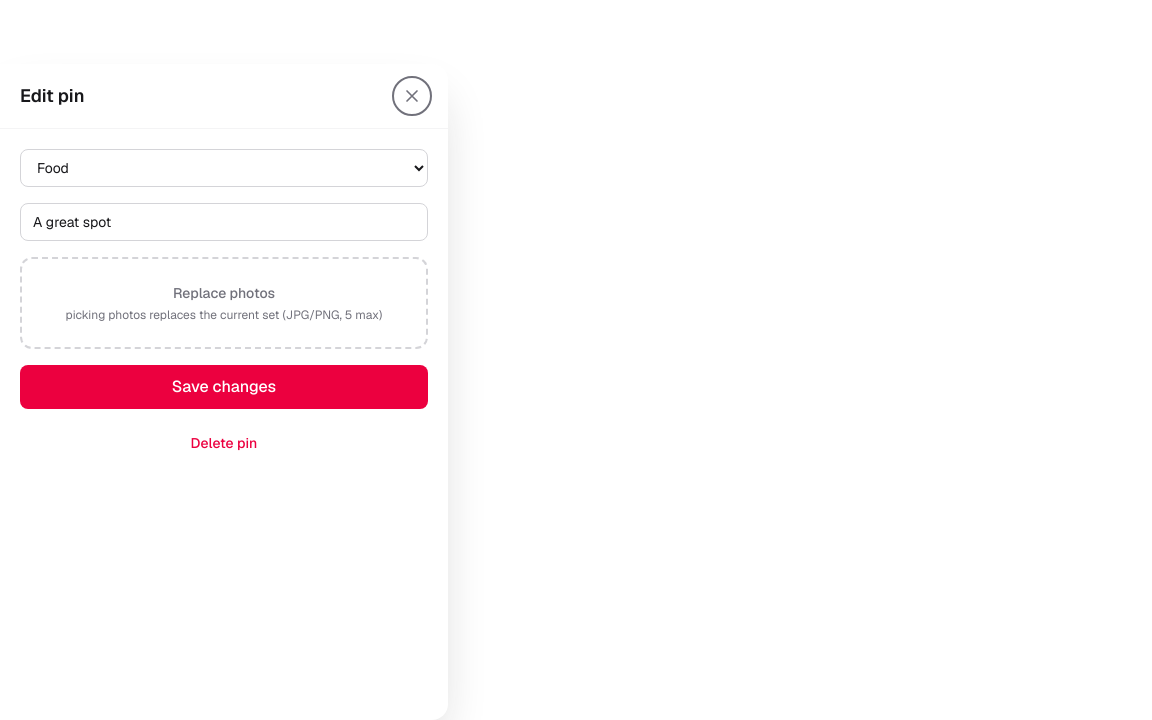
Test: PinEditSheet delete › shows a friendly error when deletion fails
This screenshot has width=1152, height=720.
Step 1. Click the button "Delete pin" → (224, 443), box left=20, top=425, right=428, bottom=461
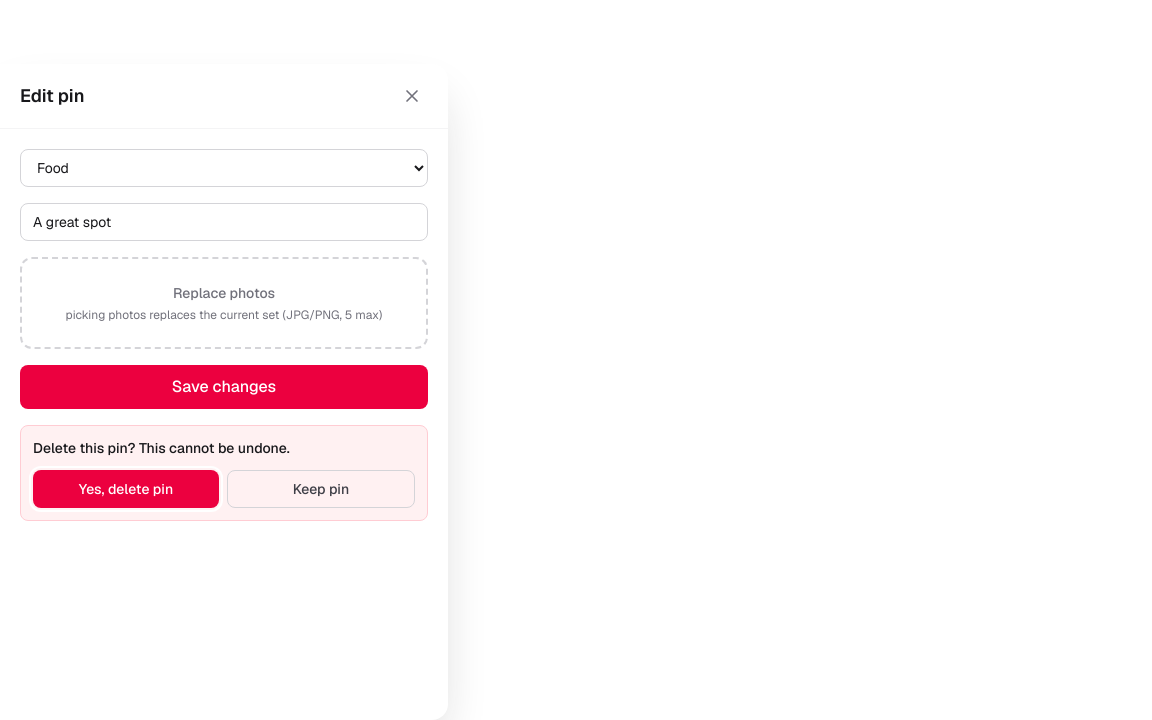
Step 2. Click the button "Yes, delete pin" → (126, 489), box left=33, top=470, right=219, bottom=508
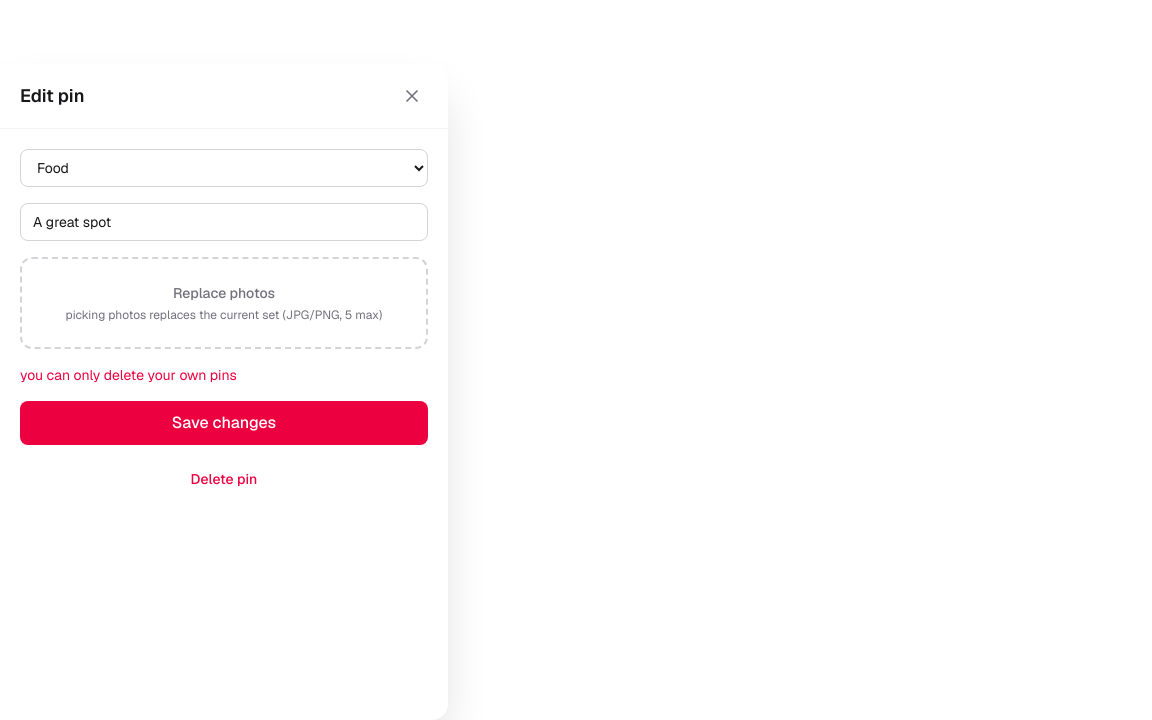
Expected: the message "you can only delete your own pins" is shown, left=20, top=366, right=237, bottom=384
